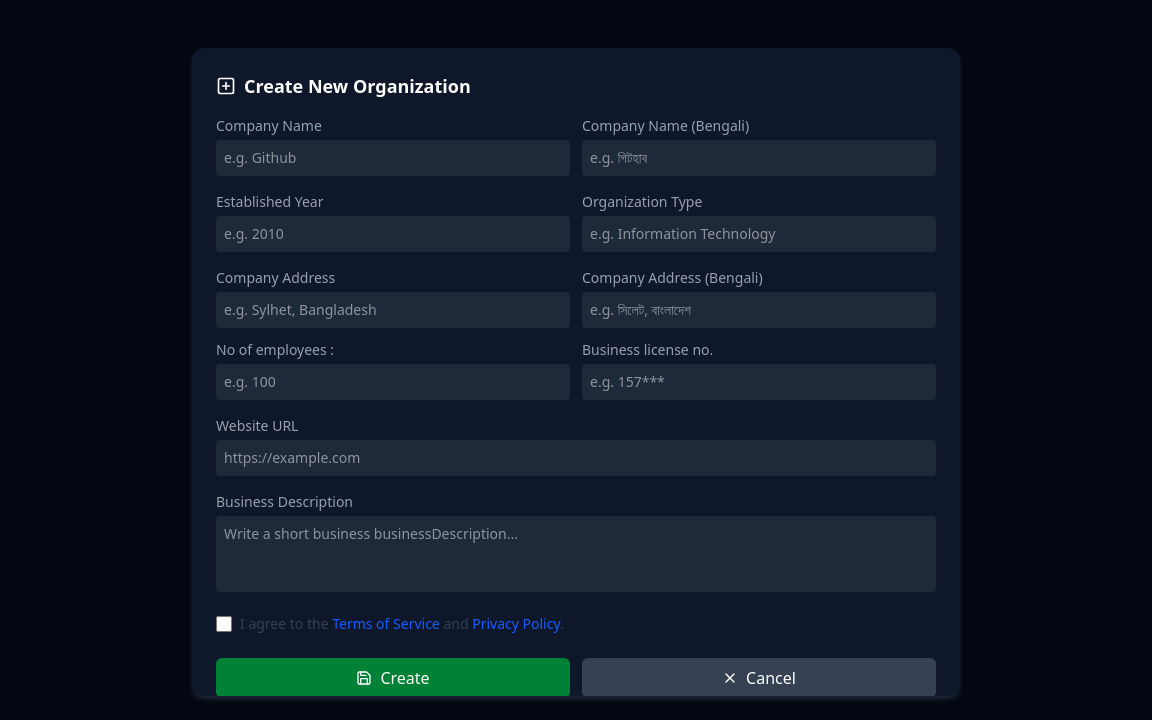
Test: CreateOrganizationForm › shows validation errors for empty required fields
This screenshot has width=1152, height=720.
Click the button "Create". click: (393, 678)
box: x1=216 y1=658 x2=570 y2=698
(page scrolled)
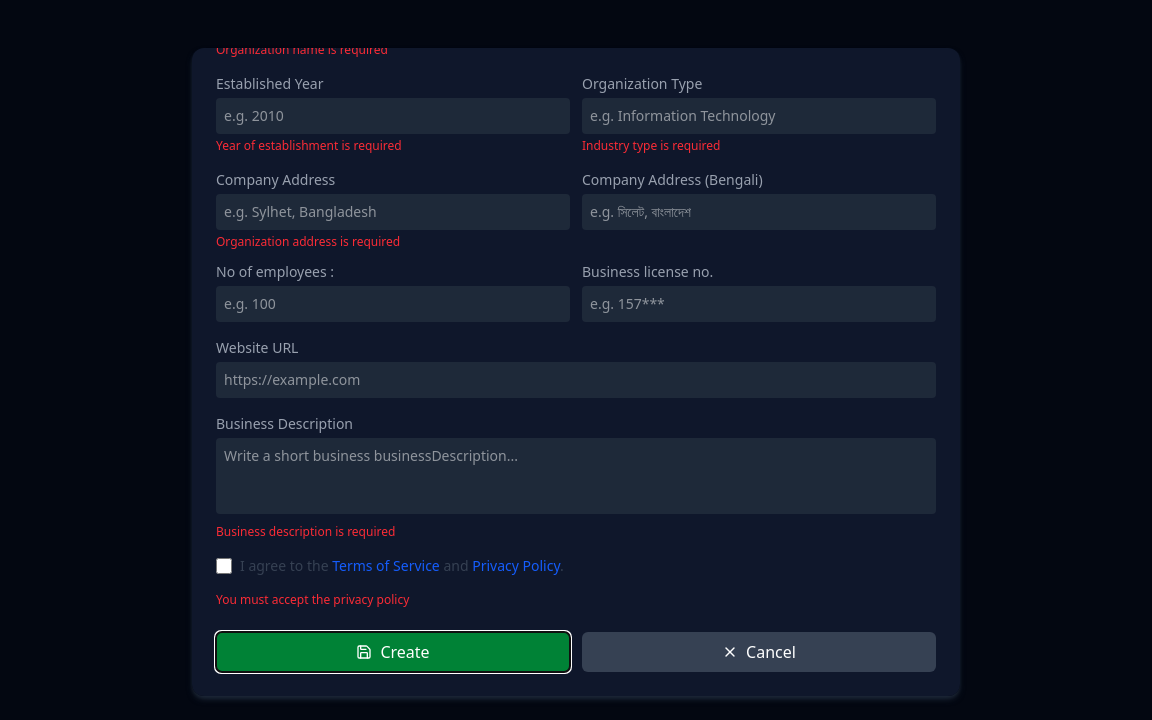
Now the text "Year of establishment is required" is shown, box x1=216 y1=137 x2=402 y2=154
Now the text "Organization address is required" is shown, box x1=216 y1=233 x2=400 y2=250
Now the text "Industry type is required" is shown, box x1=582 y1=137 x2=720 y2=154
